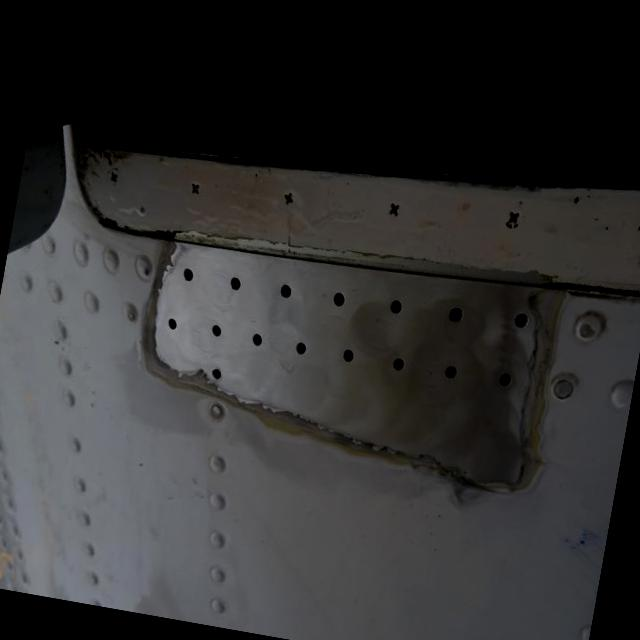Missing Fastener: (172, 248, 202, 284), (444, 300, 470, 332), (438, 358, 462, 388), (220, 273, 250, 296), (388, 349, 412, 376), (158, 312, 182, 338), (274, 278, 298, 304), (508, 312, 535, 334), (492, 369, 516, 393), (327, 286, 351, 310), (206, 362, 228, 388), (204, 318, 227, 342), (246, 328, 269, 351), (386, 292, 409, 314), (290, 337, 311, 361), (340, 343, 361, 365)
